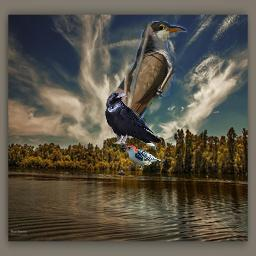Crow: (105, 92, 162, 150)
Cuckoo: (110, 21, 205, 140)
Woodpecker: (119, 145, 164, 169)
